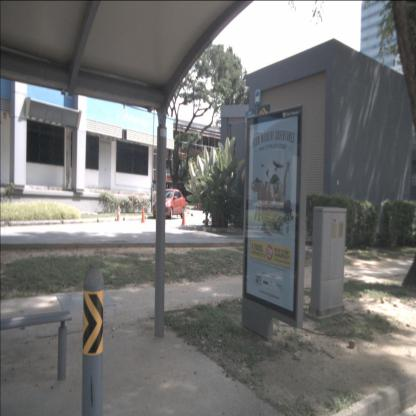cone: (180, 206, 188, 226), (140, 205, 146, 224), (117, 203, 121, 222)
